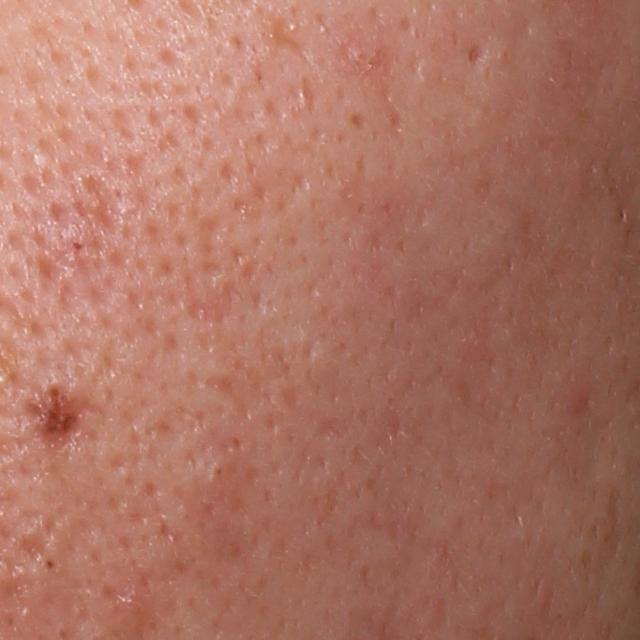atrophic_scar: (199, 347, 318, 431), (335, 28, 409, 136), (46, 176, 133, 264), (185, 276, 244, 323), (262, 9, 314, 61), (20, 529, 45, 569)
comedo: (43, 554, 59, 575)
nevus: (17, 373, 102, 452)
papule: (558, 382, 593, 417)
